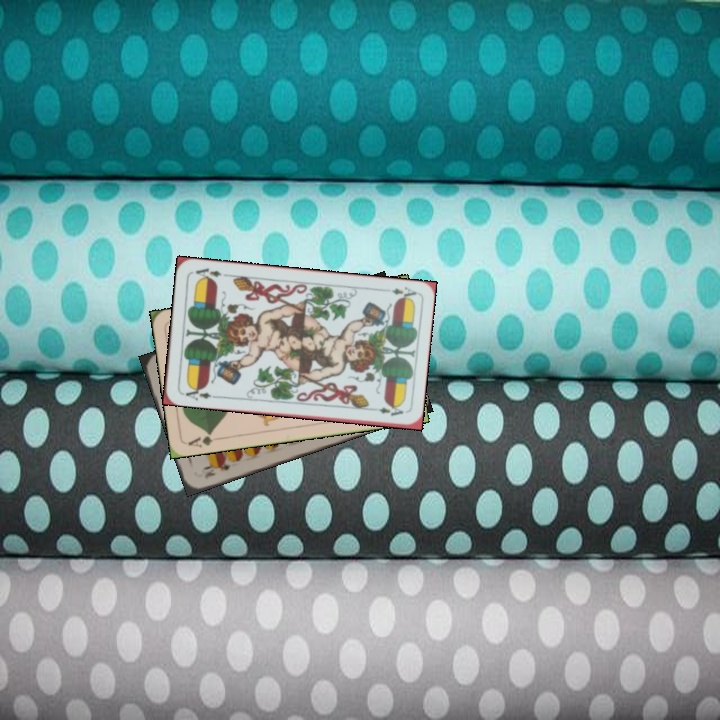E10: (200, 458, 233, 482)
EA: (182, 382, 219, 403), (387, 283, 419, 303)
GA: (184, 428, 224, 450)
